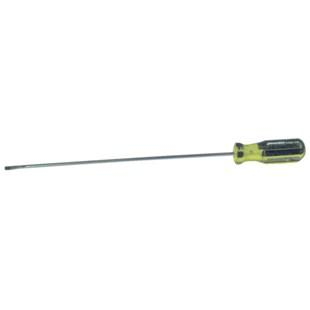Screwdriver: (0, 126, 310, 195)
